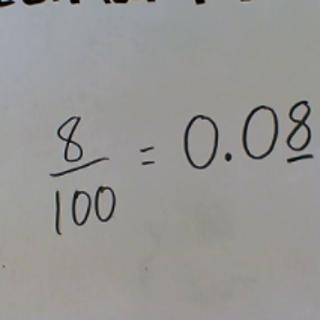.: (221, 147, 234, 163)
0: (242, 104, 279, 161), (184, 115, 221, 170), (93, 185, 117, 222), (72, 187, 91, 227)
1: (51, 192, 62, 234)
8: (286, 100, 313, 152), (56, 114, 82, 162)
